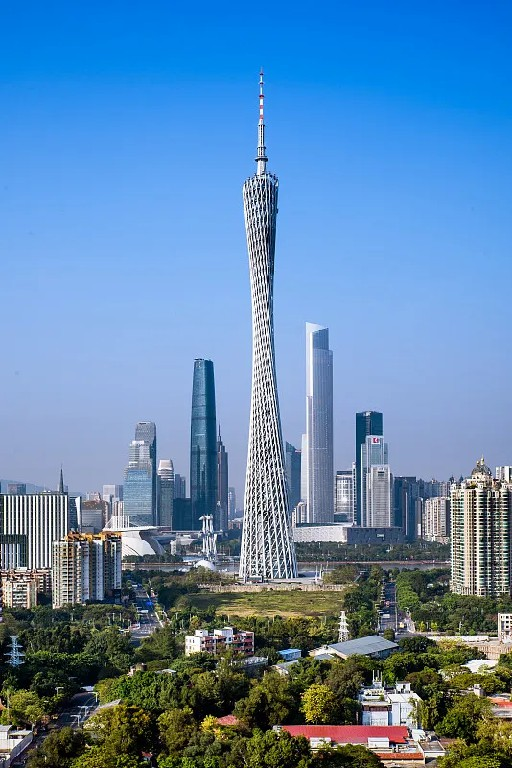Canton: (232, 62, 304, 581)
